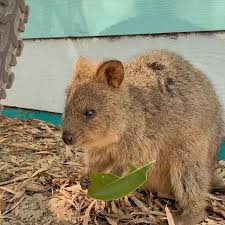quokka: (41, 38, 224, 211)
